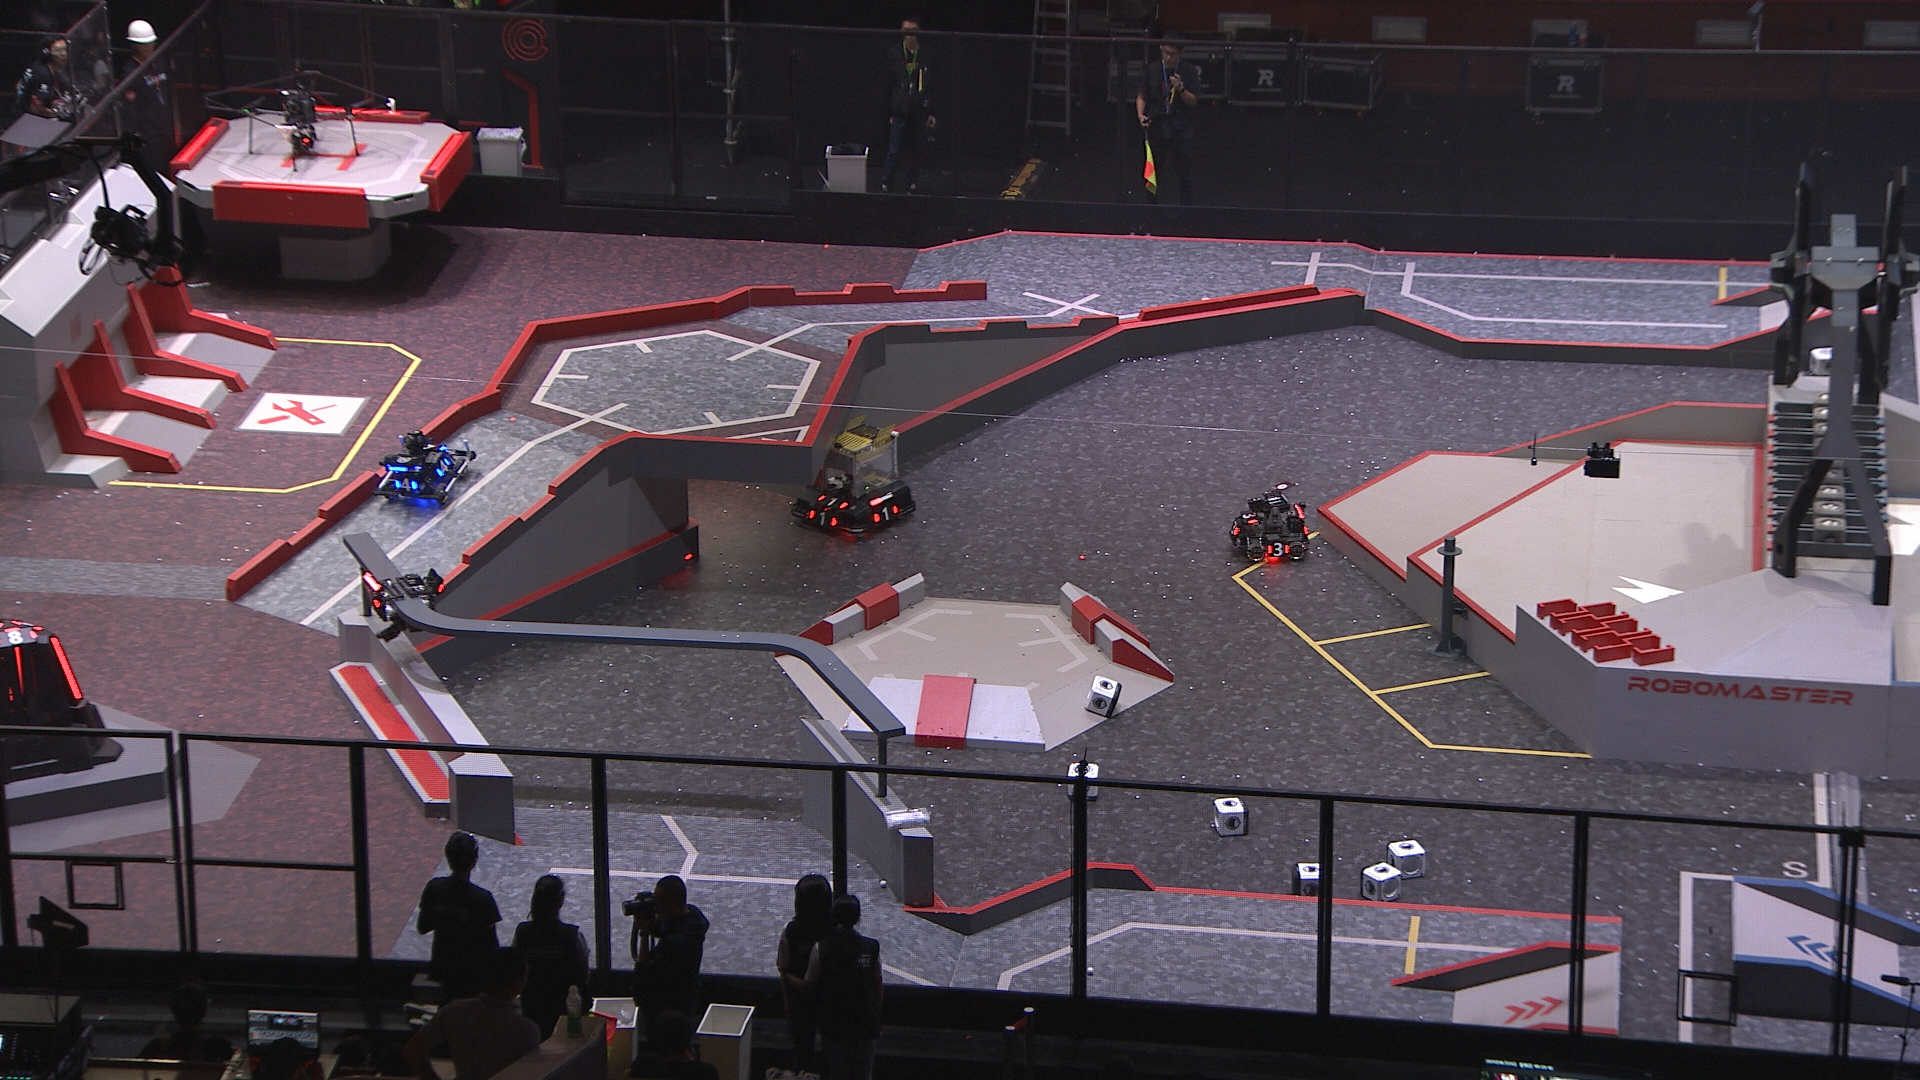armor: (46, 636, 84, 702), (359, 578, 385, 615), (806, 508, 840, 531), (12, 644, 26, 698), (814, 491, 851, 512), (870, 500, 898, 526), (396, 476, 419, 496), (1265, 542, 1291, 559), (434, 455, 451, 479), (1240, 508, 1259, 526), (422, 438, 447, 452), (17, 618, 44, 632), (1230, 517, 1244, 538)
car: (789, 417, 916, 535), (375, 429, 481, 510), (1226, 480, 1316, 566)
watcher: (357, 562, 444, 642)
